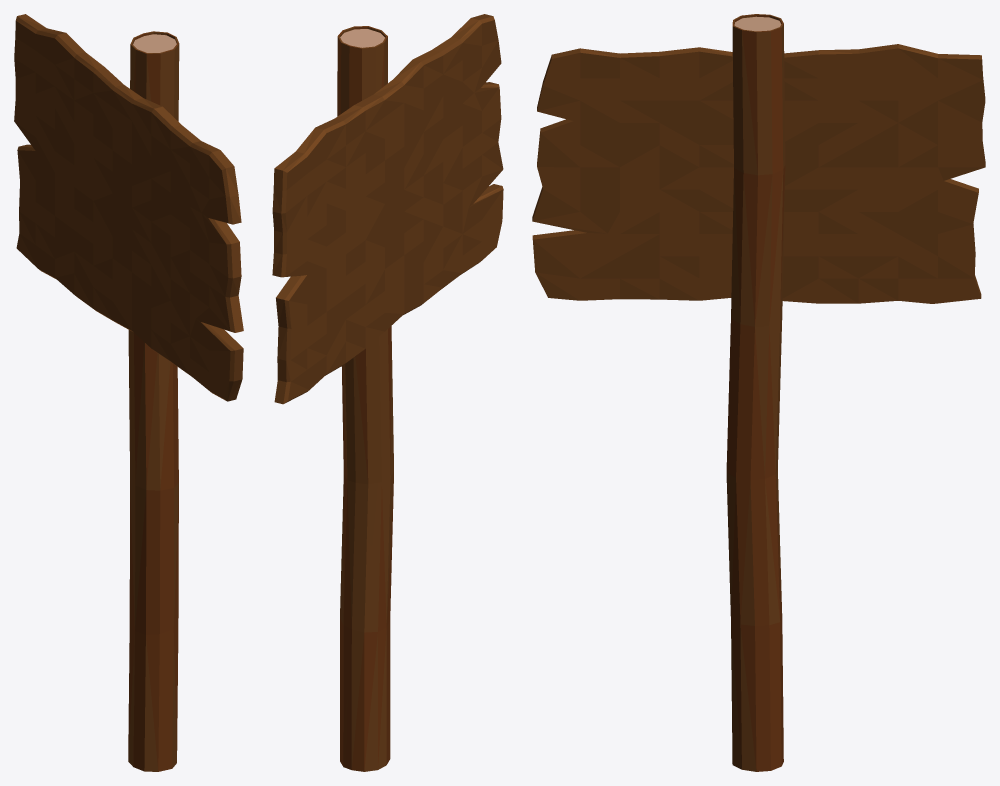
The model's file is sign.fbx.
The picture shows the model from 3 angles, left to right: view 1: azimuth 30°, elevation 25°; view 2: azimuth 150°, elevation 25°; view 3: azimuth 270°, elevation 25°; orthographic projection. The views are drawn at different scales.
Visible parts, largest first — view 1: Cube, log; view 2: Cube, log; view 3: Cube, log.
Boxes of the visible parts, x1=… form: Cube: x1=14, y1=14, x2=243, y2=401; log: x1=128, y1=31, x2=179, y2=771; Cube: x1=272, y1=14, x2=503, y2=404; log: x1=337, y1=26, x2=393, y2=771; Cube: x1=532, y1=44, x2=985, y2=303; log: x1=726, y1=14, x2=785, y2=771.
Size of the model in its own units: 8.17 by 106 by 58.79.
